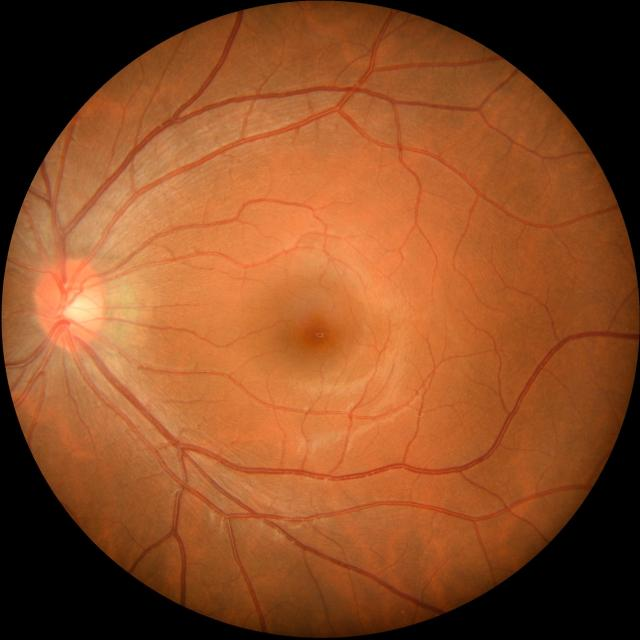OC: (58, 288, 92, 326)
OD: (34, 256, 103, 348)
